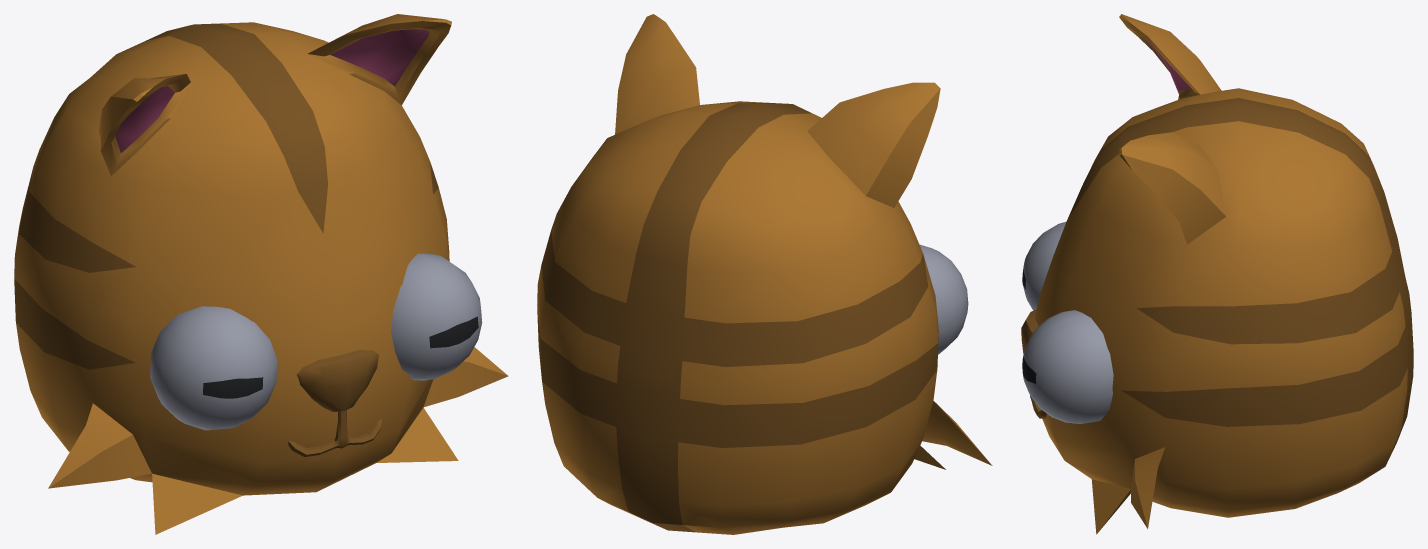
File: Cat.glb
3 renders of one model, left to right at view 1: azimuth 30°, elevation 25°; view 2: azimuth 150°, elevation 25°; view 3: azimuth 270°, elevation 25°, orthographic. The views are drawn at different scales.
Visible parts, largest first — view 1: SK_Cat; view 2: SK_Cat; view 3: SK_Cat.
Part boxes in pixels (<box>): SK_Cat: <box>14,14,508,534</box>; SK_Cat: <box>537,14,992,534</box>; SK_Cat: <box>1021,14,1413,534</box>.
Size of the model in its own units: 2.1 by 1.94 by 1.72.
1 material, 1 textured.
